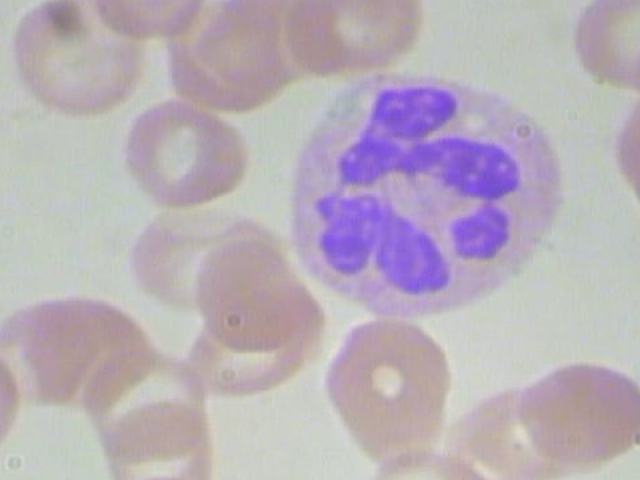RBC: (312, 312, 455, 459), (0, 0, 151, 123), (116, 93, 261, 211), (469, 373, 607, 480), (189, 231, 314, 349), (521, 359, 640, 467), (285, 0, 430, 75), (559, 0, 640, 89), (83, 0, 227, 44), (604, 86, 640, 233)
WBC: (276, 73, 575, 321)
